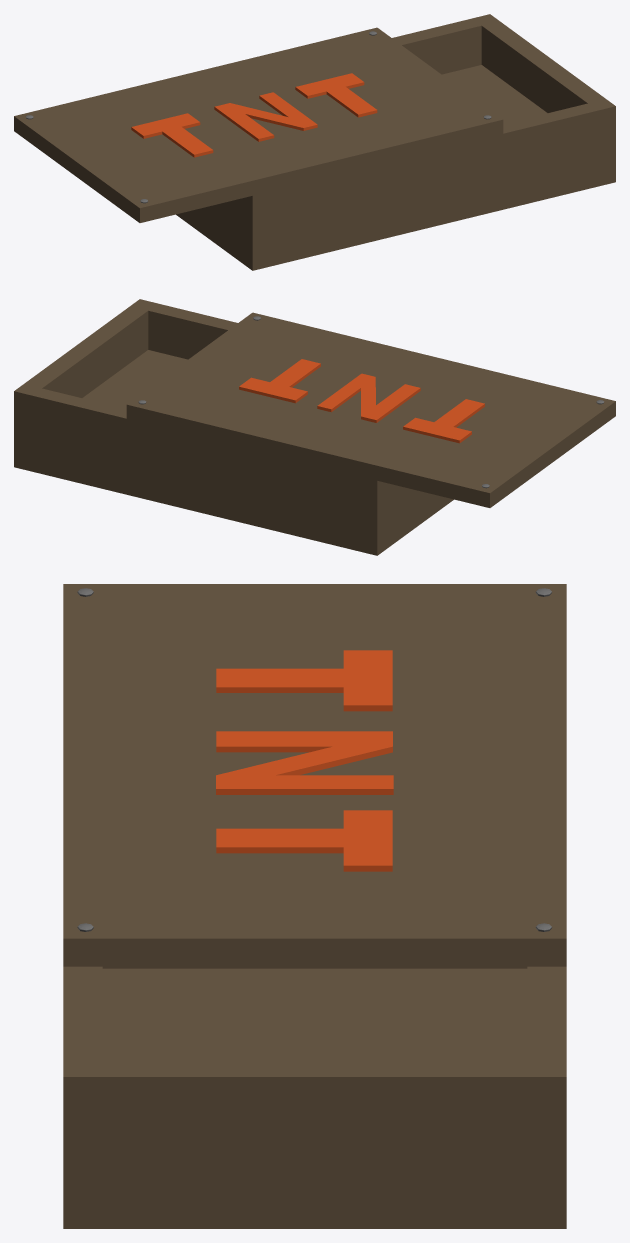
File: casssa_tnt.fbx
3 views of the same model, one above another, from view 1: azimuth 30°, elevation 25°; view 2: azimuth 150°, elevation 25°; view 3: azimuth 270°, elevation 25° (orthographic). The views are drawn at different scales.
Parts seen in each view (by area): view 1: pCylinder5; view 2: pCylinder5; view 3: pCylinder5.
Part boxes in pixels (x1,y1,x2,y2): pCylinder5: [14, 14, 615, 270]; pCylinder5: [14, 299, 615, 555]; pCylinder5: [63, 584, 566, 1228].
Size of the model in its own units: 6.55 by 1.22 by 3.
